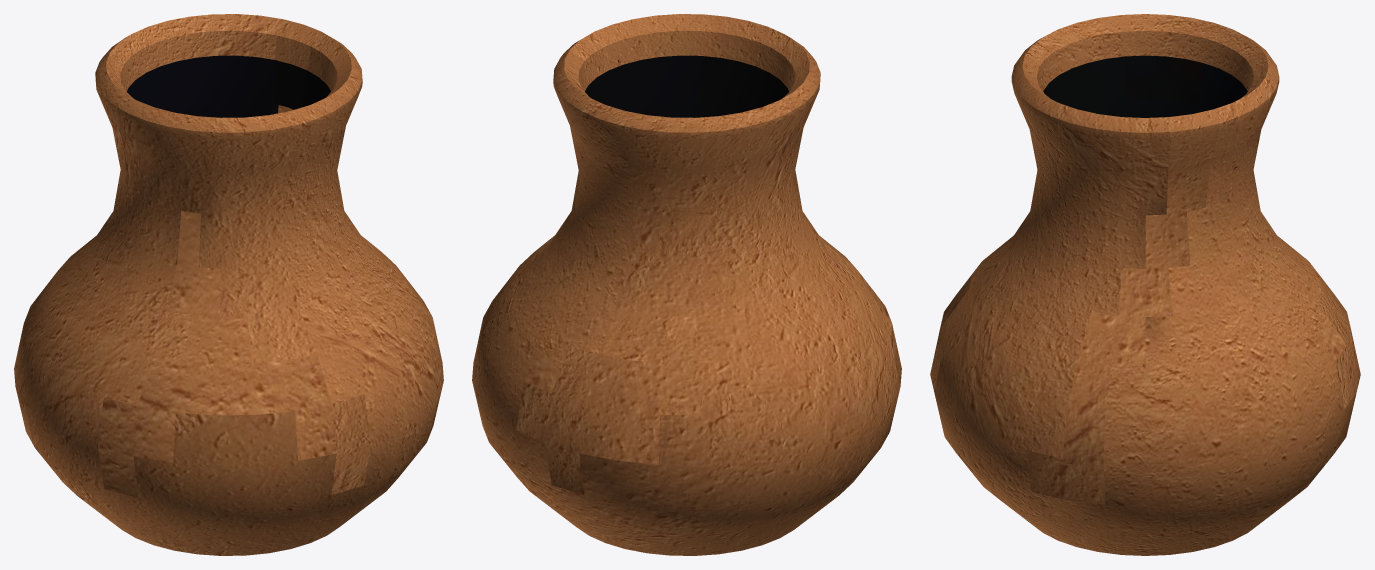
File: vase.fbx
The picture shows the model from 3 angles, left to right: view 1: azimuth 30°, elevation 25°; view 2: azimuth 150°, elevation 25°; view 3: azimuth 270°, elevation 25°; orthographic projection.
Parts seen in each view (by area): view 1: Cylinder.002; view 2: Cylinder.002; view 3: Cylinder.002.
Boxes of the visible parts, left/top/right/bottom form: Cylinder.002: left=14, top=14, right=443, bottom=555; Cylinder.002: left=472, top=14, right=901, bottom=555; Cylinder.002: left=930, top=14, right=1360, bottom=555.
Size of the model in its own units: 98 by 110 by 98.
Materials: 1 (1 with a texture image).
